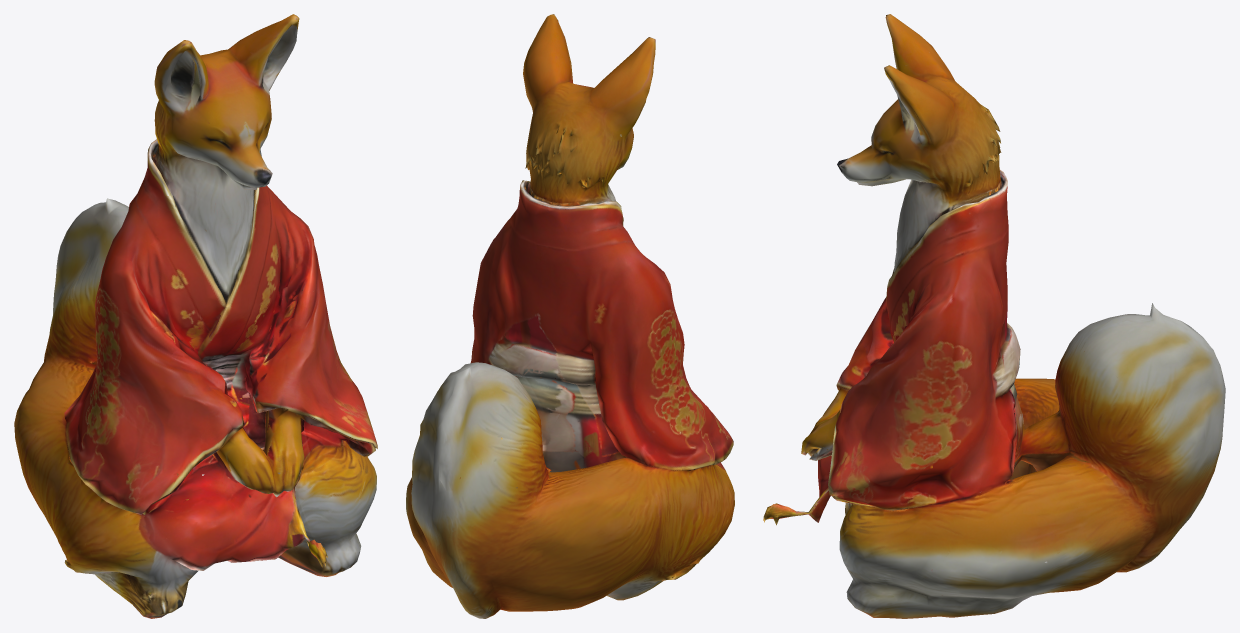
File: final_form_kitsune.glb
The picture shows the model from 3 angles, left to right: view 1: azimuth 30°, elevation 25°; view 2: azimuth 150°, elevation 25°; view 3: azimuth 270°, elevation 25°; orthographic projection. The views are drawn at different scales.
Parts seen in each view (by area): view 1: file1_0; view 2: file1_0; view 3: file1_0.
Part boxes in pixels (x1,y1,x2,y2): file1_0: (14,14,377,618); file1_0: (406,14,734,618); file1_0: (763,14,1225,618).
Size of the model in its own units: 1.11 by 2 by 1.55.
Materials: 1 (1 with a texture image).
